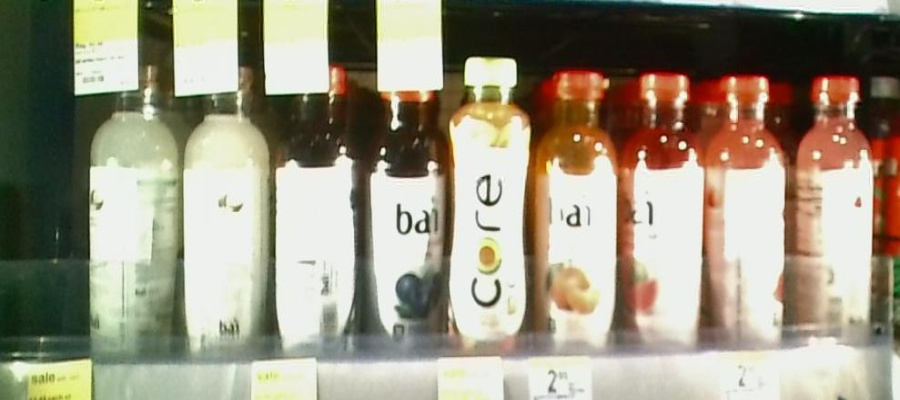bottle: (272, 52, 365, 367), (89, 61, 177, 367), (180, 63, 268, 366), (621, 64, 708, 353), (532, 61, 618, 352), (448, 59, 530, 357), (369, 62, 444, 368), (791, 70, 874, 344), (707, 66, 787, 350)
